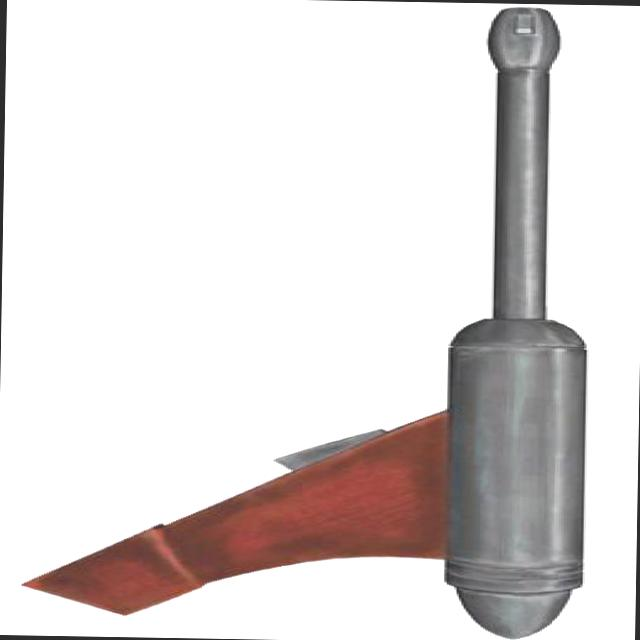handgun: (9, 0, 619, 637)
